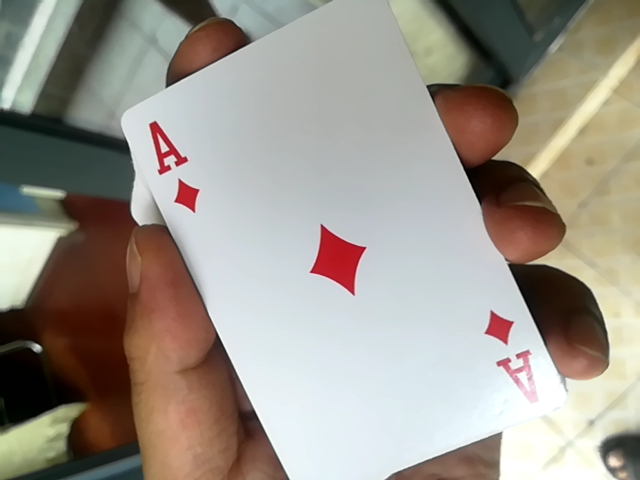fk a: (115, 3, 548, 472)
